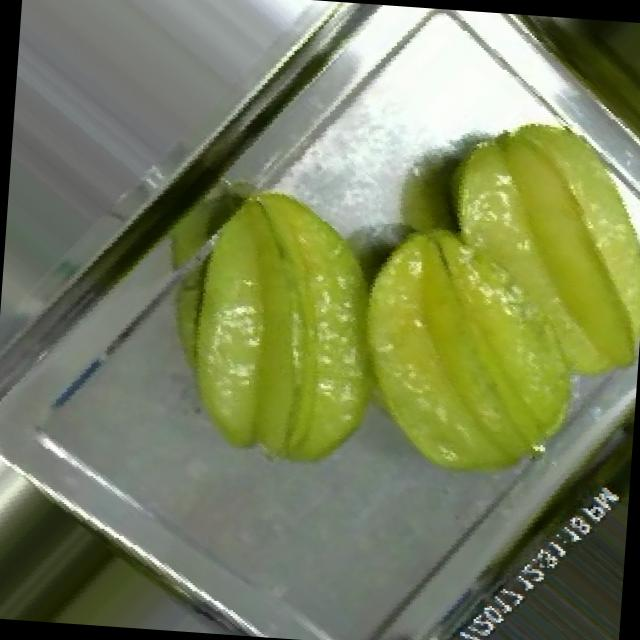fruit: (181, 46, 640, 552), (116, 131, 515, 534), (335, 56, 640, 442), (5, 0, 196, 248)
